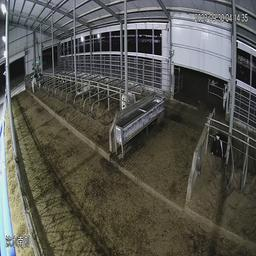cow: (210, 119, 227, 163), (27, 63, 44, 100), (73, 69, 88, 101), (118, 76, 131, 109)
